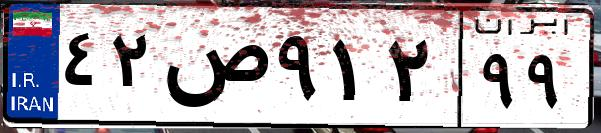1: (330, 28, 385, 110)
2: (385, 28, 445, 110), (110, 28, 158, 98)
4: (57, 26, 110, 100)
9: (270, 28, 330, 110), (475, 38, 525, 113), (525, 38, 570, 115)
ص: (158, 20, 270, 120)
